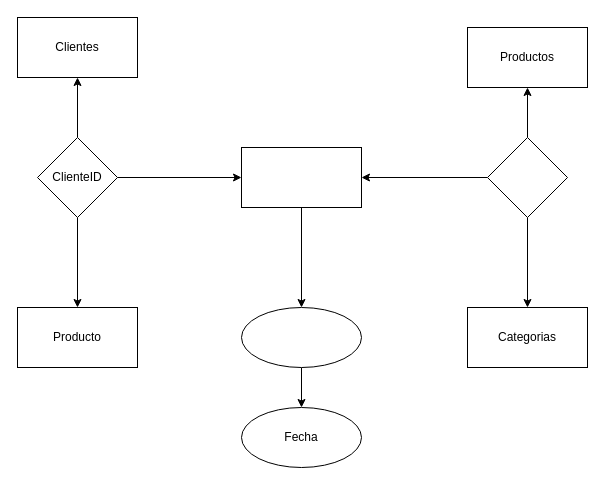
The diagram is 605 pixels wide and 485 high, and some of its shapes have lost their labels. The centre of each missing label's shape, as x and y in pixels:
Ordenes: [301,177]
OrdenID: [301,337]
ProductoID: [527,177]
